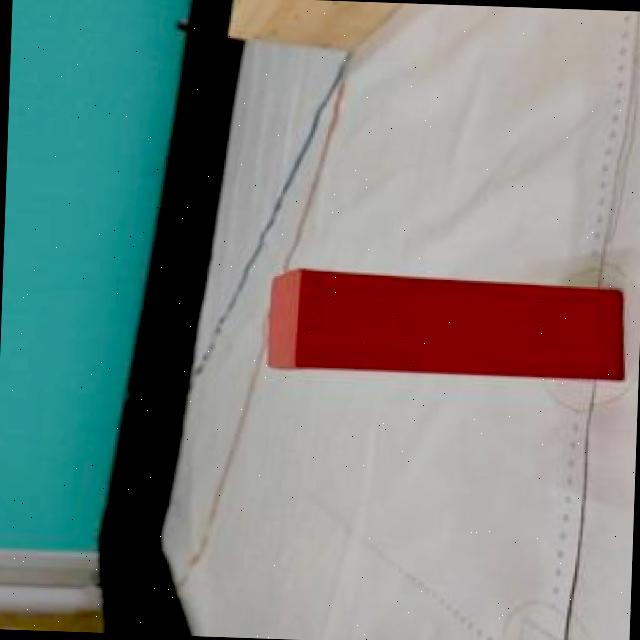redbox: (260, 266, 626, 384)
